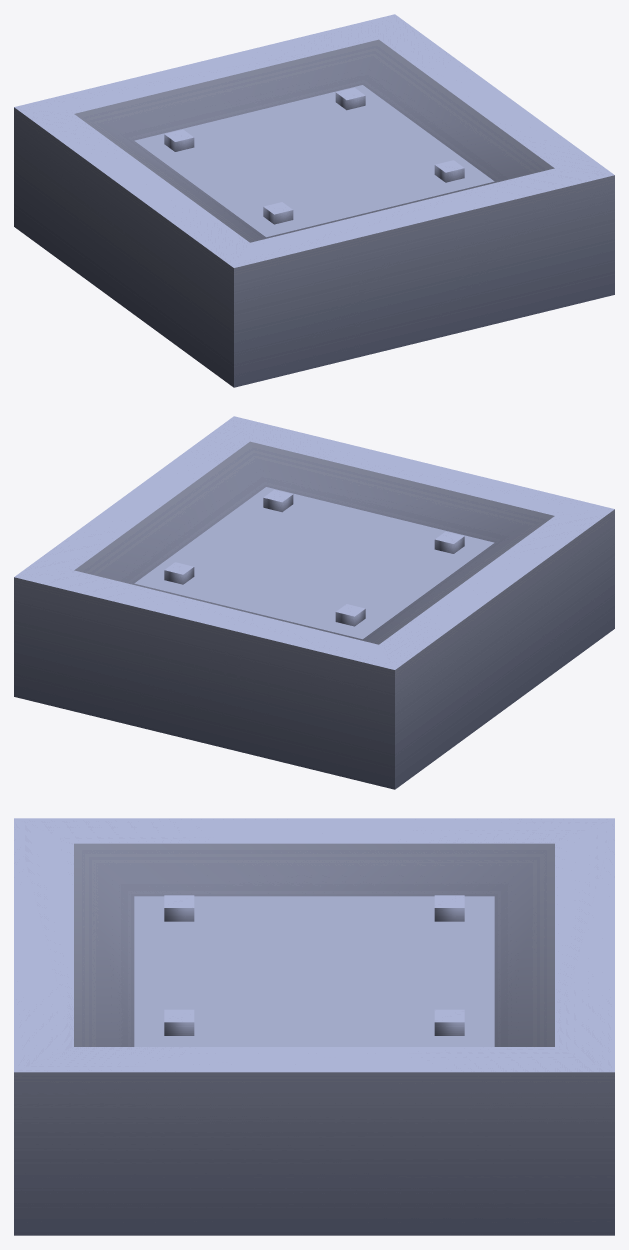
File: floor-panel.glb
3 renders of one model, top to bottom at view 1: azimuth 30°, elevation 25°; view 2: azimuth 150°, elevation 25°; view 3: azimuth 270°, elevation 25°, orthographic. The views are drawn at different scales.
Visible parts, largest first — view 1: floor-panel; view 2: floor-panel; view 3: floor-panel.
Part boxes in pixels (left/top/right/bottom): floor-panel: left=14, top=14, right=614, bottom=387; floor-panel: left=14, top=416, right=614, bottom=789; floor-panel: left=14, top=818, right=614, bottom=1235.
Size of the model in its own units: 1 by 0.3 by 1.
Materials: 1 (1 with a texture image).
